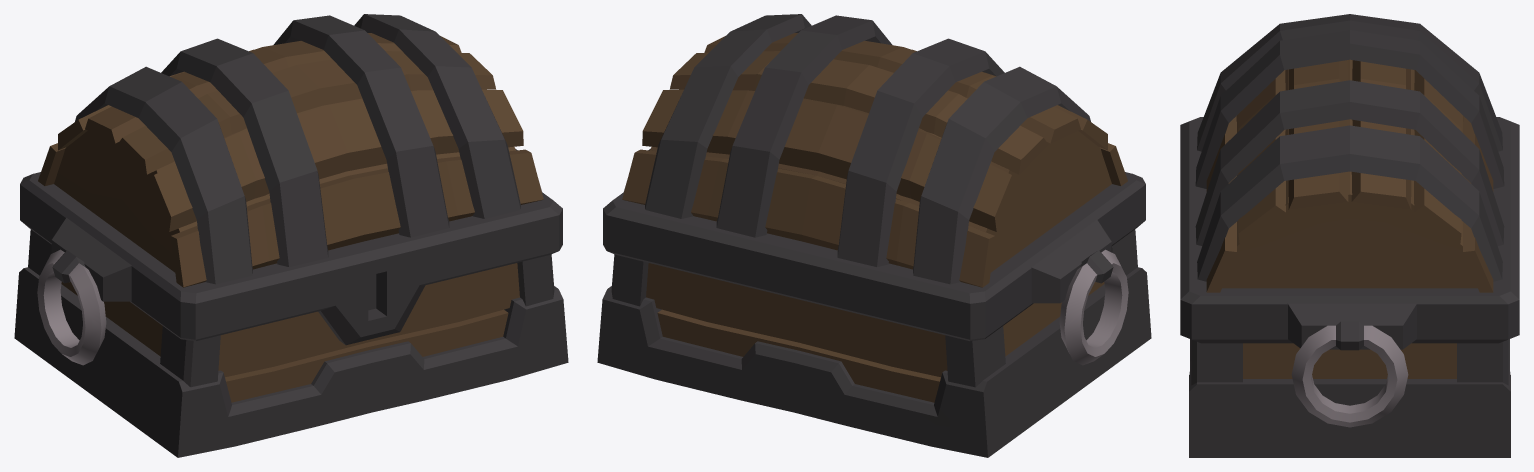
Rendered from Chest Closed.obj.
The picture shows the model from 3 angles, left to right: view 1: azimuth 30°, elevation 25°; view 2: azimuth 150°, elevation 25°; view 3: azimuth 270°, elevation 25°; orthographic projection.
Parts seen in each view (by area): view 1: obj1; view 2: obj1; view 3: obj1.
Part boxes in pixels (<box>): obj1: <box>14,14,568,457</box>; obj1: <box>597,14,1151,457</box>; obj1: <box>1180,14,1519,457</box>.
Size of the model in its own units: 1.39 by 0.8813 by 0.8874.
Materials: 1 (1 with a texture image).
